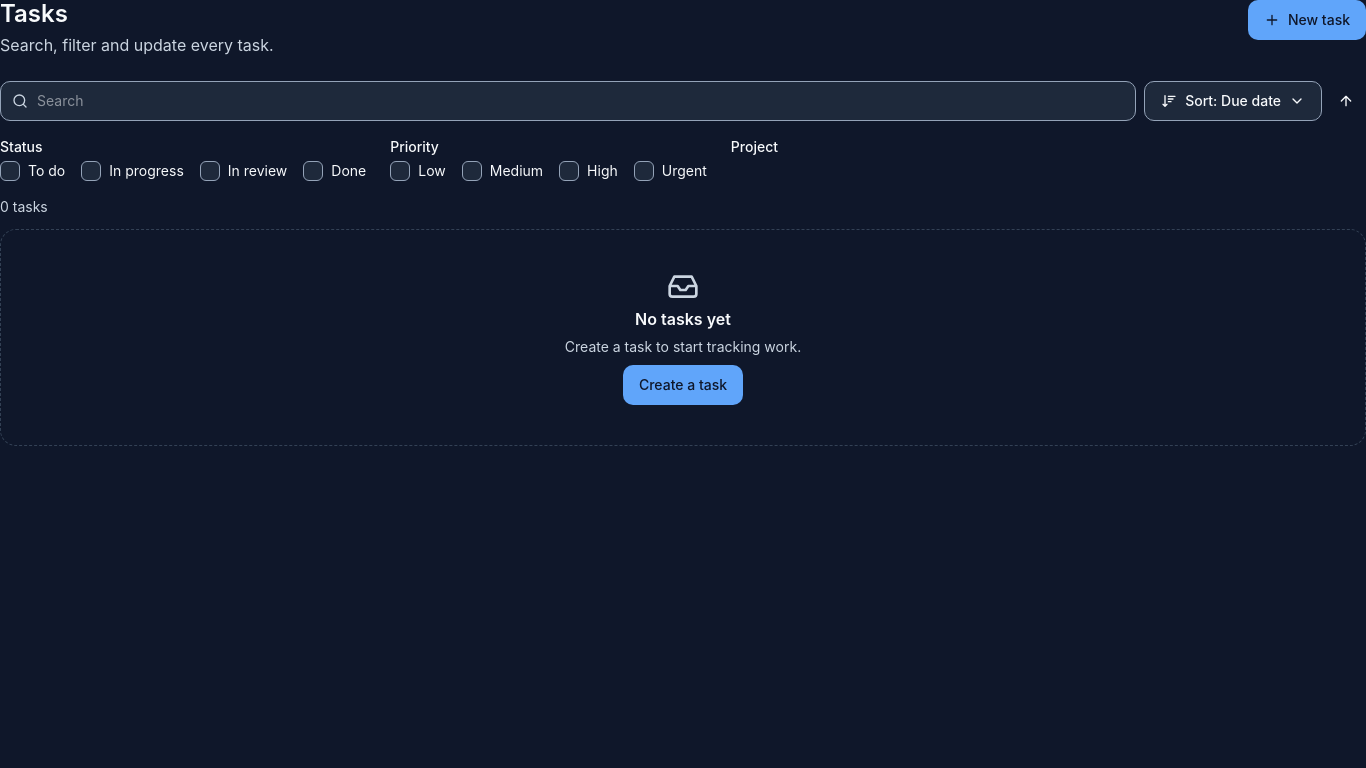
Test case: TC-054 tasks page (FR-15..19, FR-21) › TC-071 the empty scenario offers a create-first action that opens the form
The image size is (1366, 768).
Check: the heading "No tasks yet" is shown, box [635,310,731,329]
Step 1. Click the button "Create a task" → point(683, 385), box [623,365,743,405]
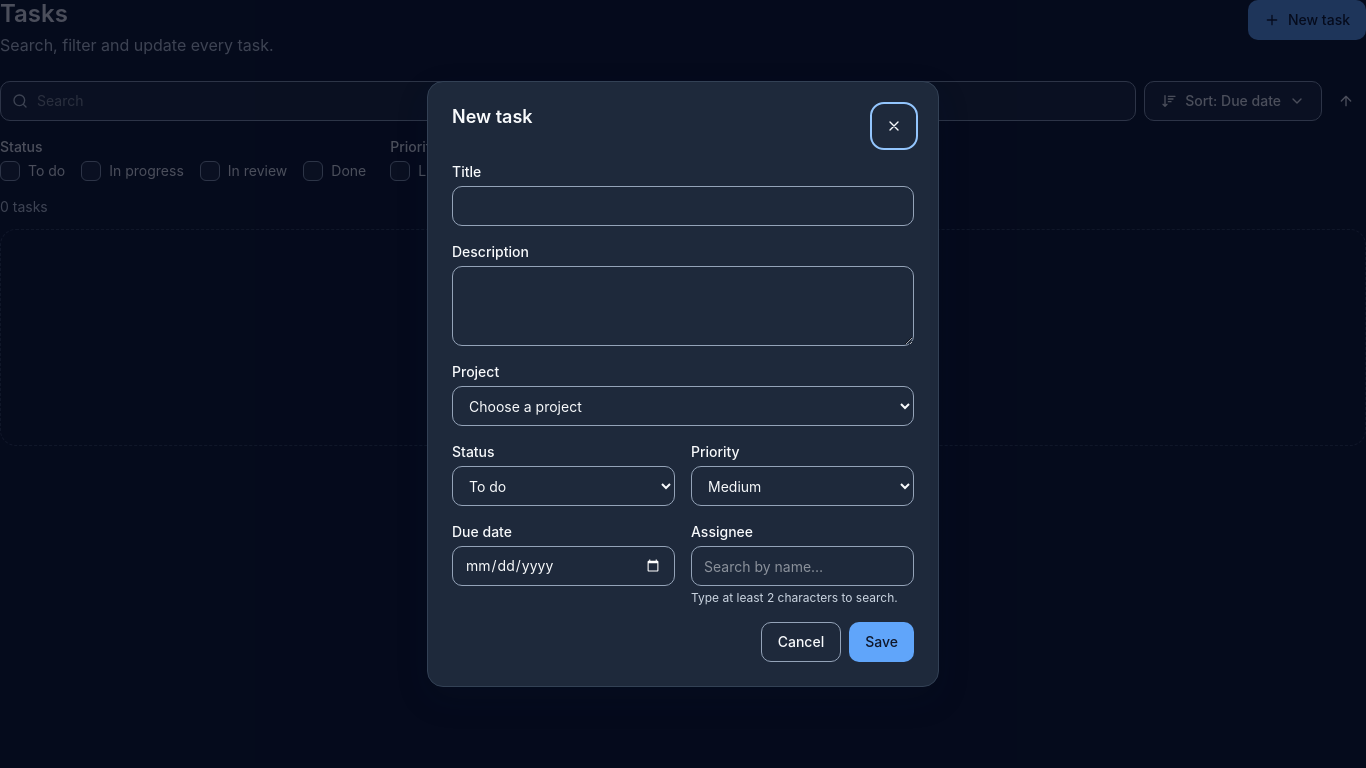
Check: the dialog "New task" is shown, box [427,81,939,687]
